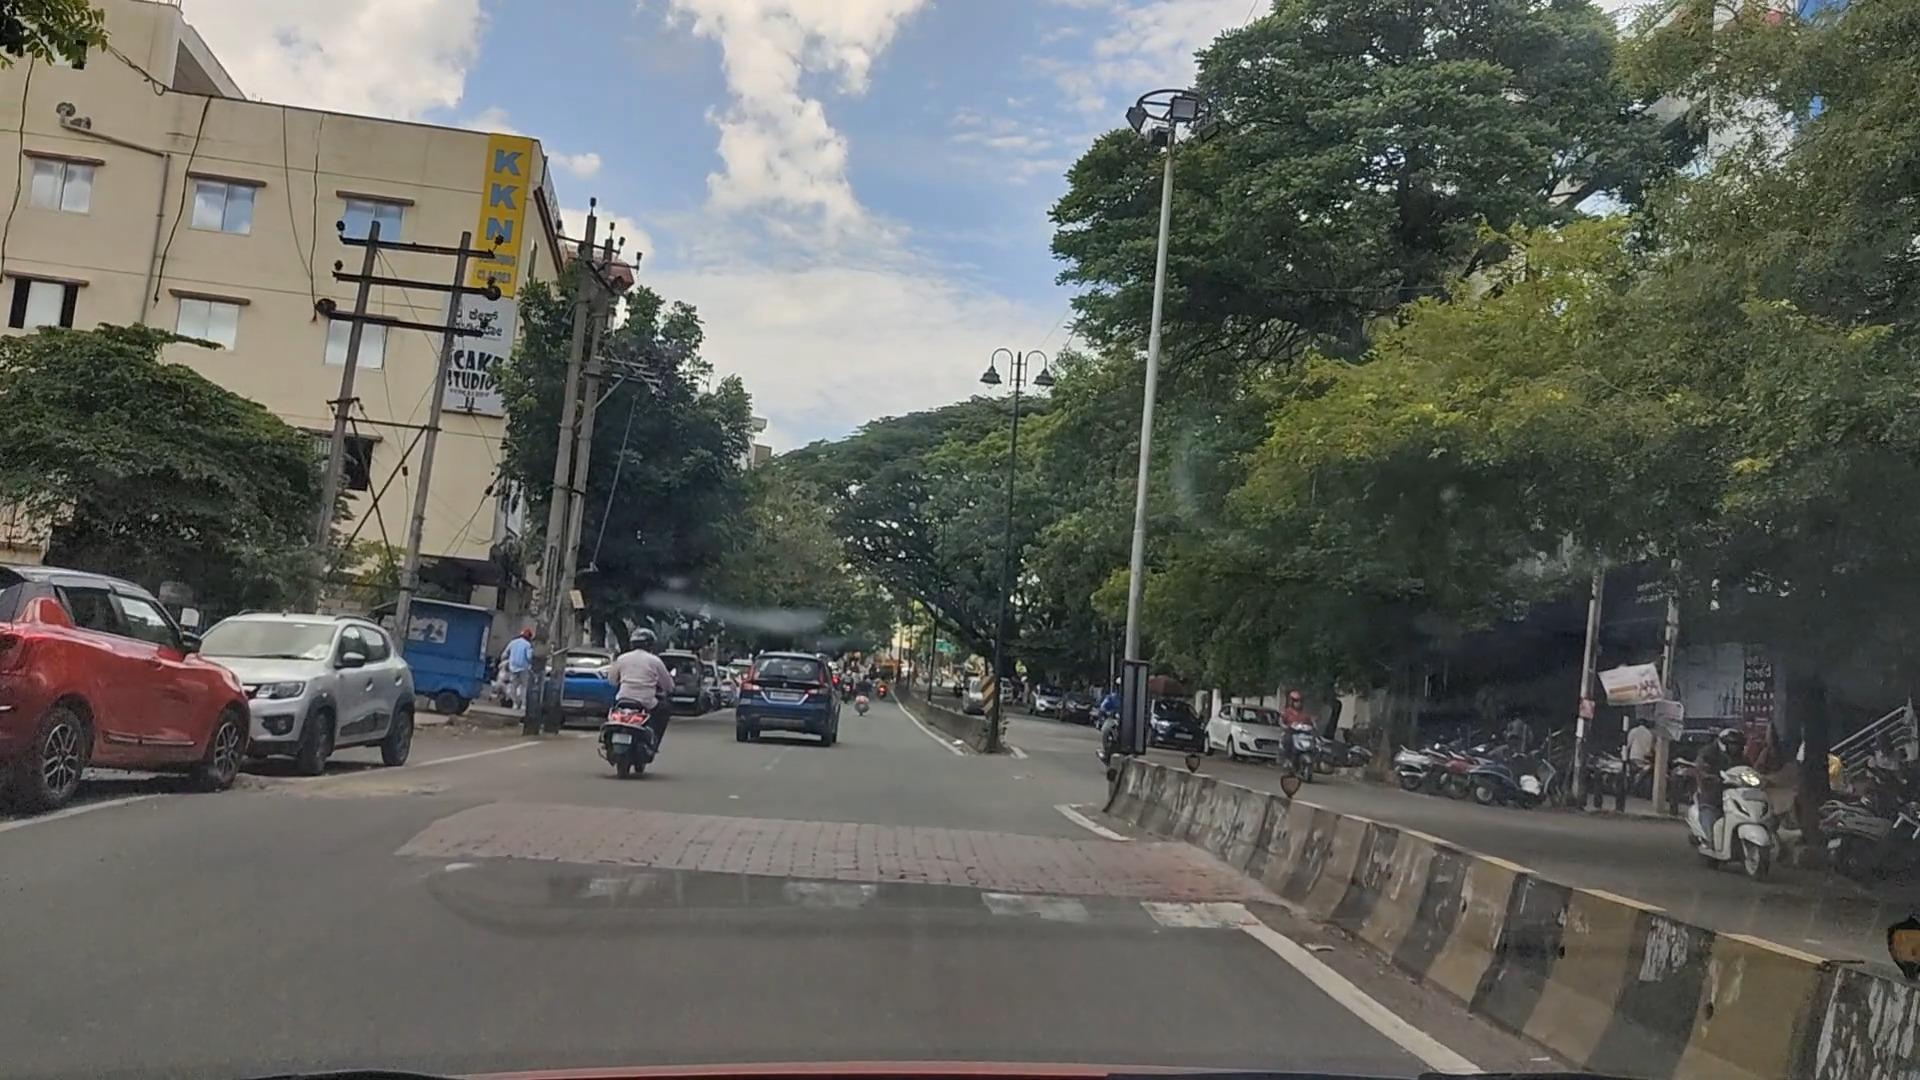SpeedBump: (238, 793, 1257, 940)
